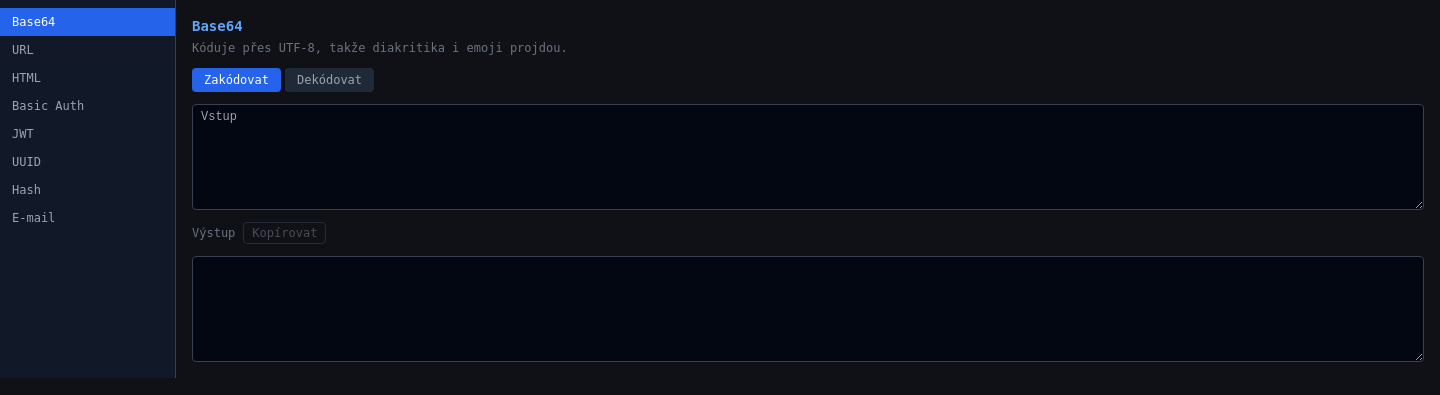
ToolsView › Base64 nástroj dekóduje vstup po přepnutí na Dekódovat
The width and height of the screenshot is (1440, 395).
Click the button "Dekódovat" at (330, 80), box [285,68,374,92]
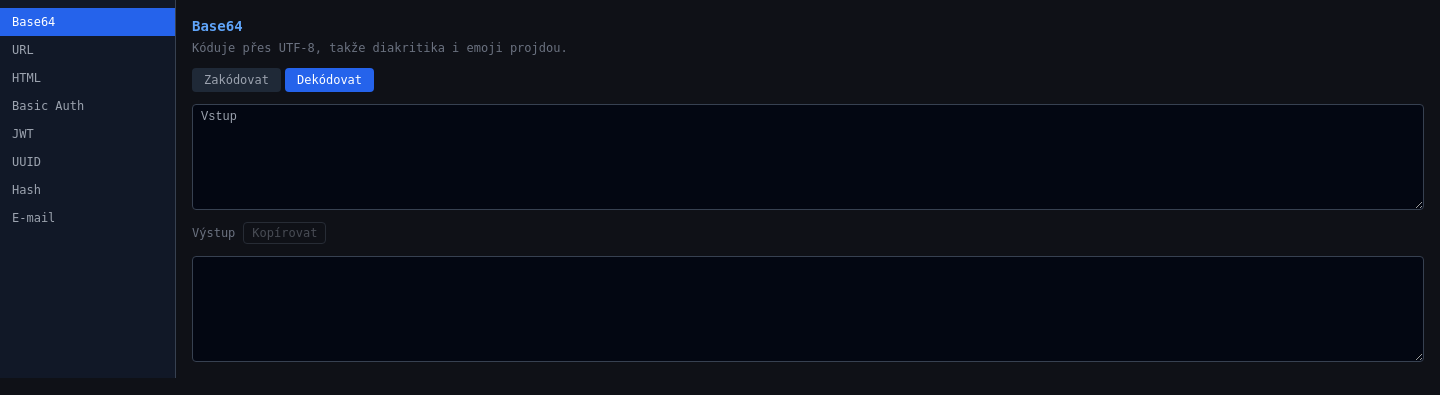
Type "UMWZw61sacWhIMW+bHXFpW91xI1rw70ga8WvxYg=" into the text box with placeholder "Vstup" at (808, 157), box [192,104,1424,210]
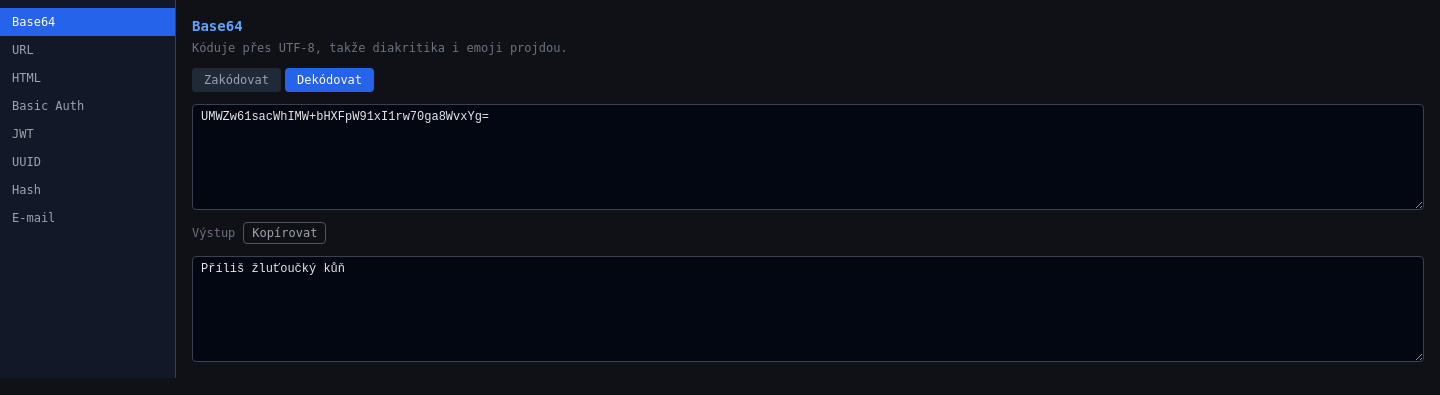
Check: the 2nd text box holds "Příliš žluťoučký kůň", box [192,256,1424,362]
